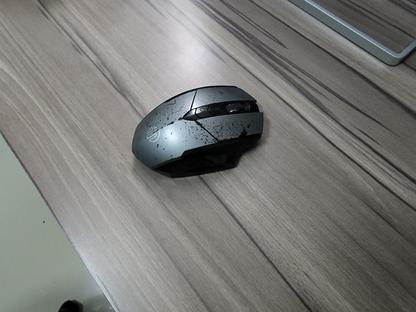mouse: (130, 84, 264, 178)
